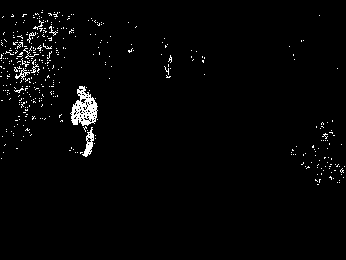person: (68, 83, 99, 158)
